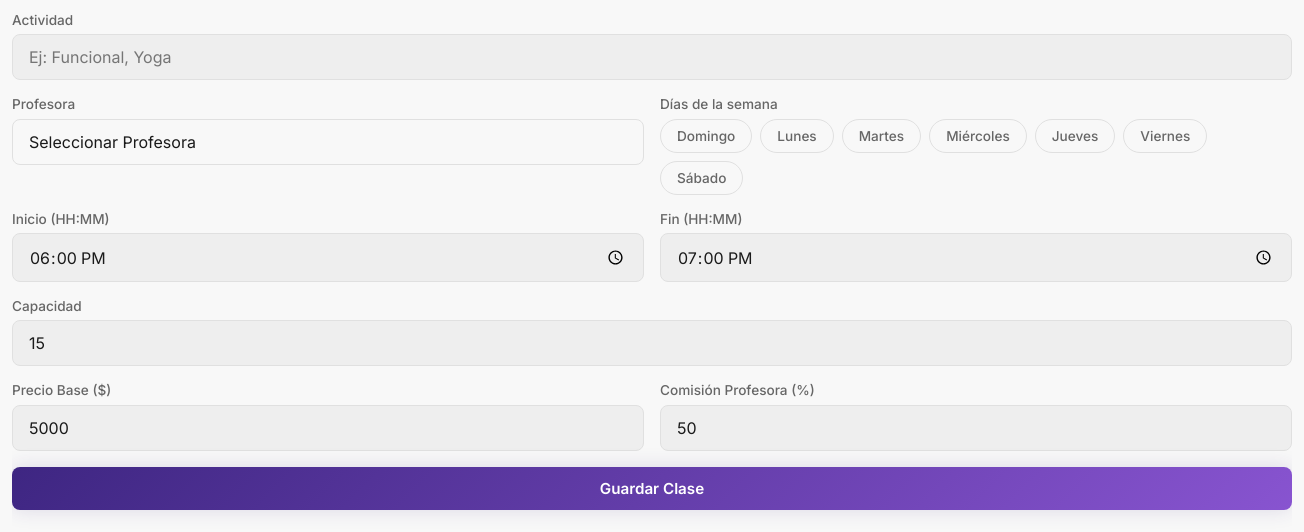
it: ClassForm › Seleccionar opción del autocomplete: se llena el campo y se cierra dropdown
The image size is (1304, 532).
Focus the field with placeholder "Ej: Funcional, Yoga" at x=652, y=57, box [12,34,1292,80]
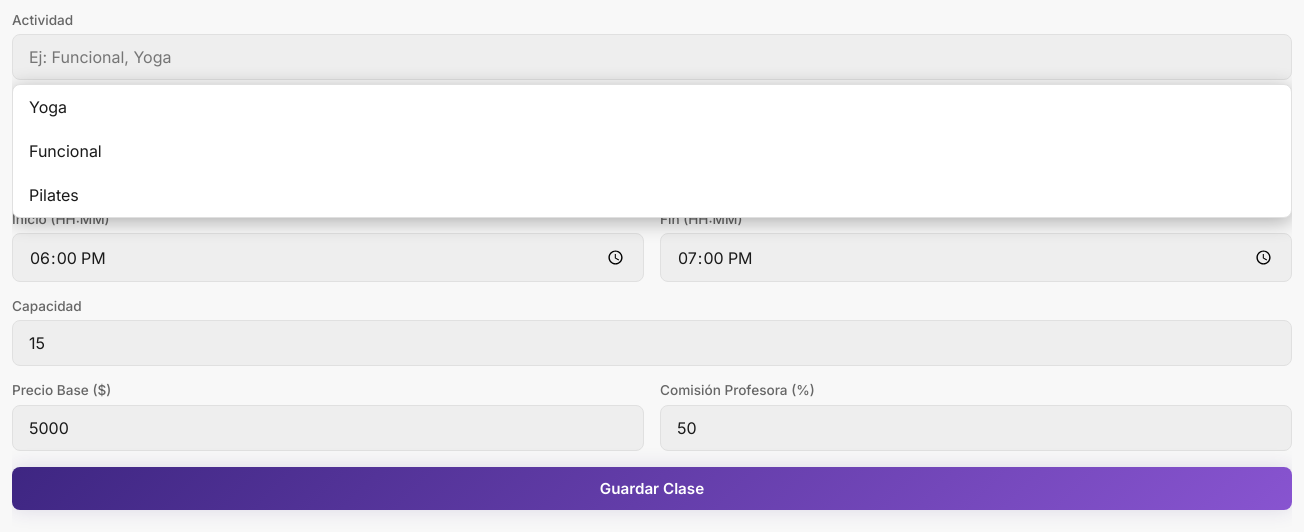
Expected: the text "Yoga" is shown
Click the text "Yoga" at x=48, y=107, box [29,97,67,117]
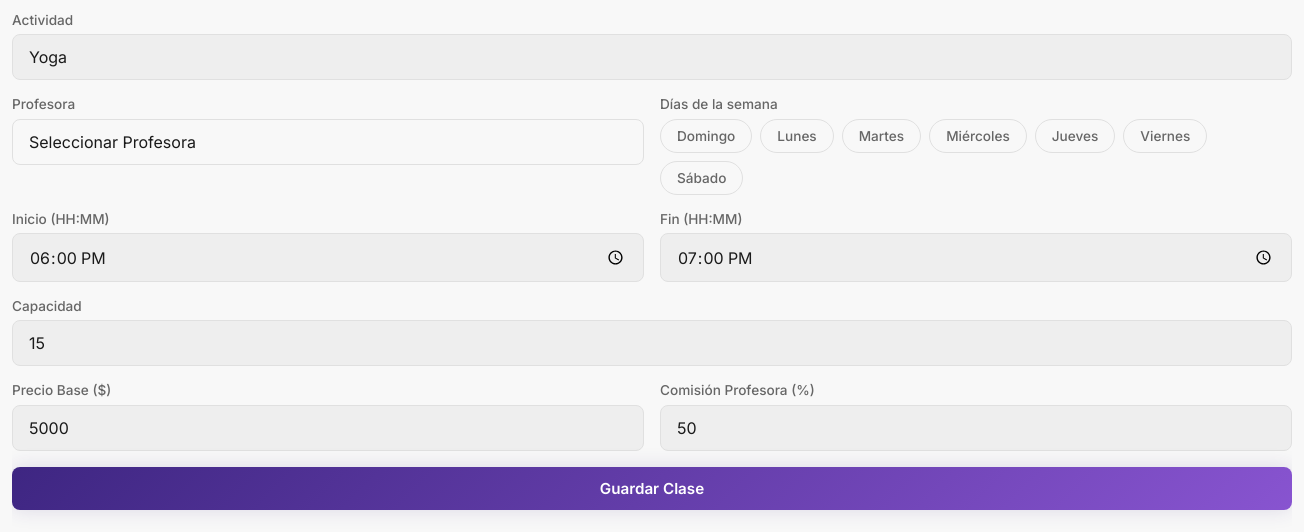
Expected: the field with placeholder "Ej: Funcional, Yoga" holds "Yoga", [12,34,1292,80]
Expected: the text "Funcional" is gone
